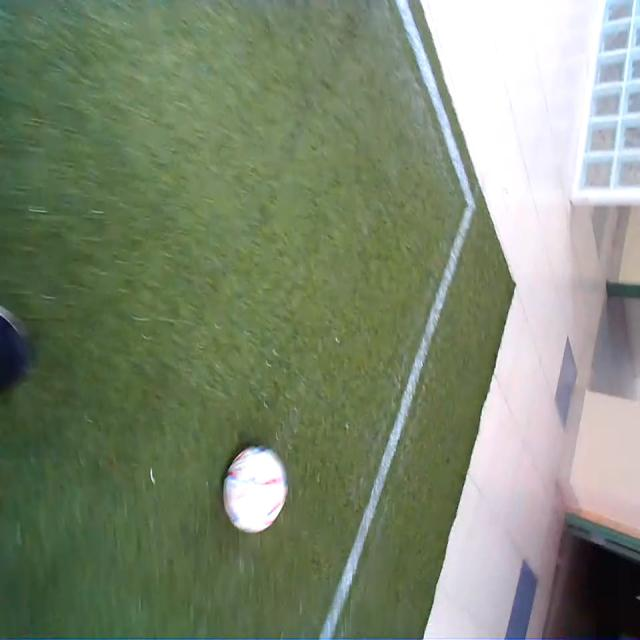ball: (224, 444, 287, 536)
